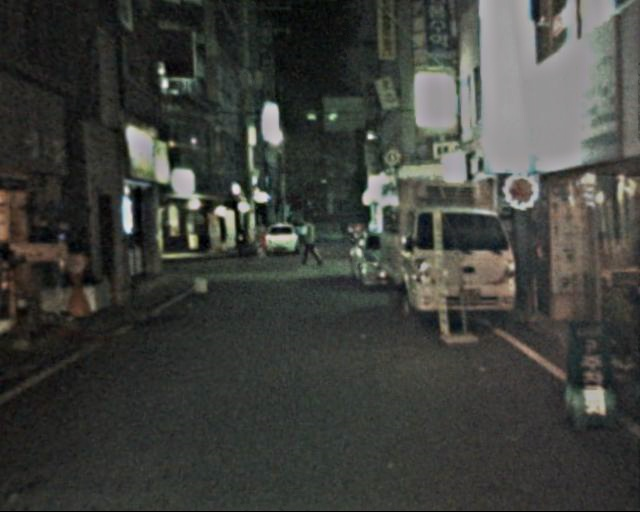person: (296, 218, 320, 270)
